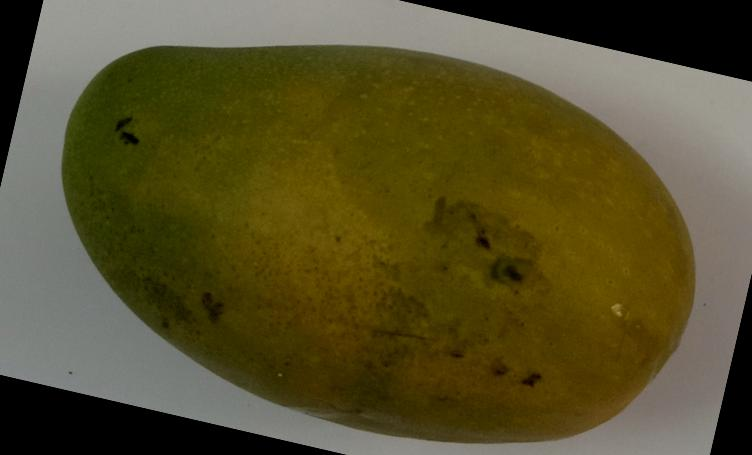Mango Ripe: (0, 0, 748, 455)
